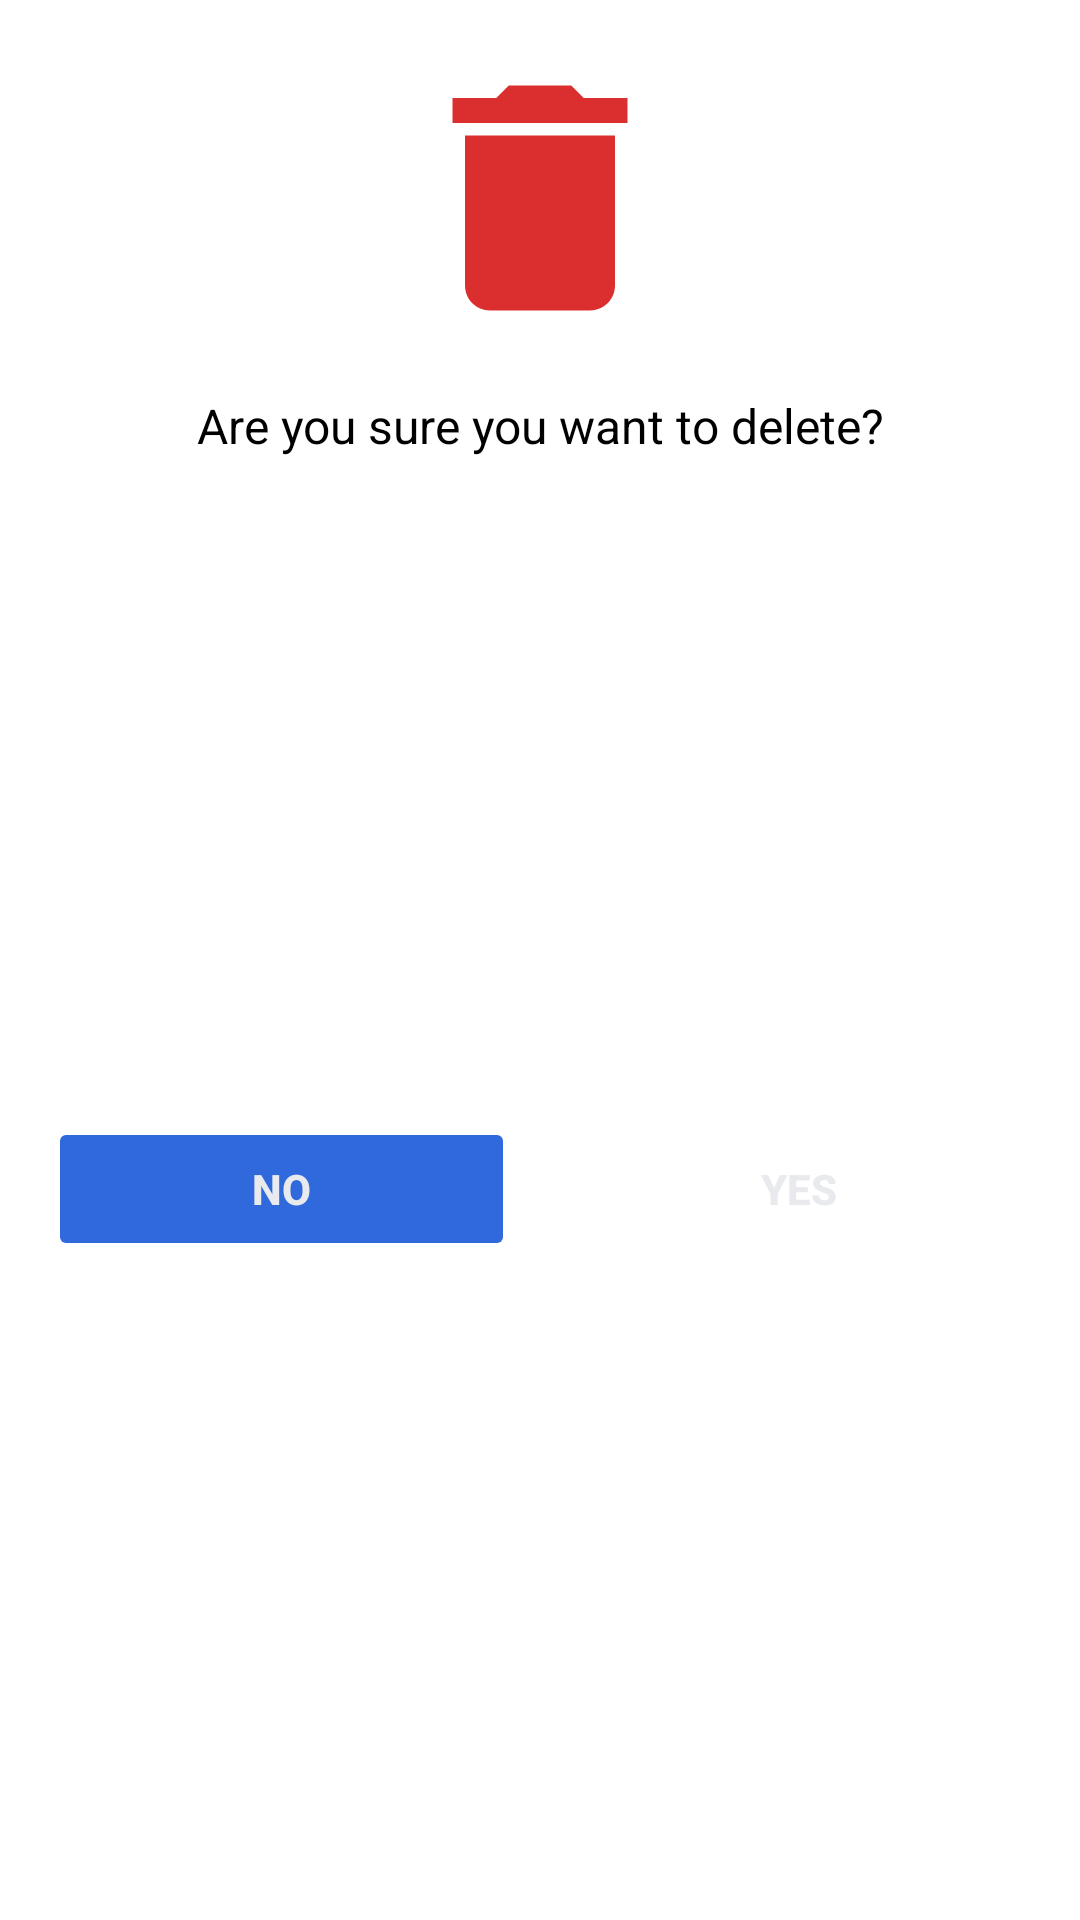

Named icons in this screenshot (1080×1920) and their bounding boxes, (x1, y1, x2, y2):
delete bin: (452, 85, 628, 311)
